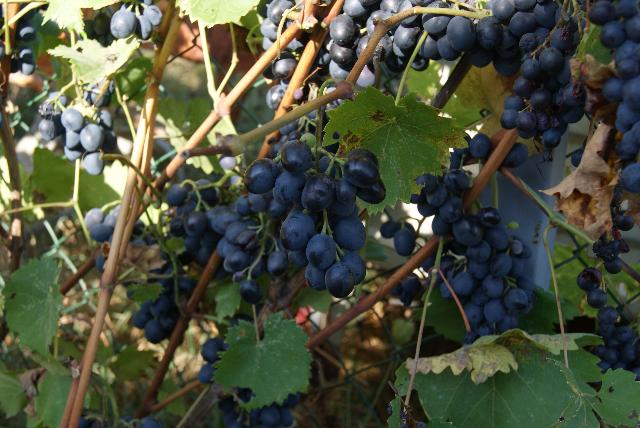grapes: (244, 110, 386, 299), (435, 195, 536, 345)
